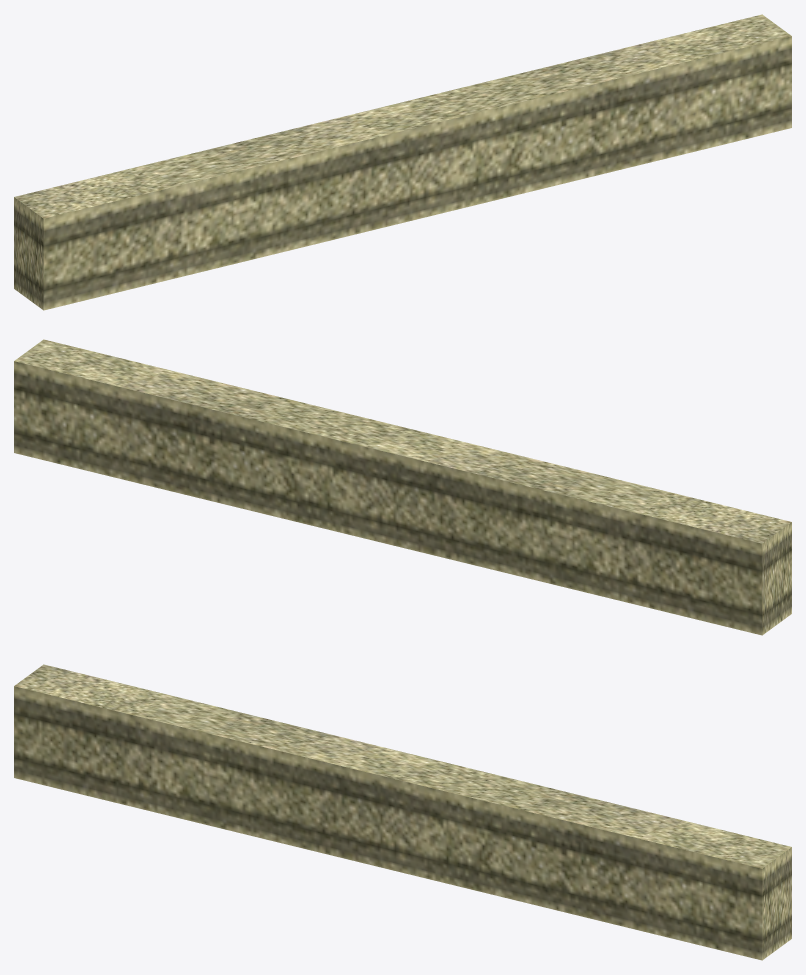
Rendered from jungle_border.gltf.
3 renders of one model, top to bottom at view 1: azimuth 30°, elevation 25°; view 2: azimuth 150°, elevation 25°; view 3: azimuth 330°, elevation 25°, orthographic.
Parts seen in each view (by area): view 1: jungle_border_glb; view 2: jungle_border_glb; view 3: jungle_border_glb.
Part boxes in pixels (bbox=[...]): jungle_border_glb: bbox=[14, 14, 791, 310]; jungle_border_glb: bbox=[14, 339, 791, 635]; jungle_border_glb: bbox=[14, 664, 791, 960].
Size of what is drawn, in the model's own units: 4.03 by 0.4726 by 0.2771.
Materials: 1 (1 with a texture image).
